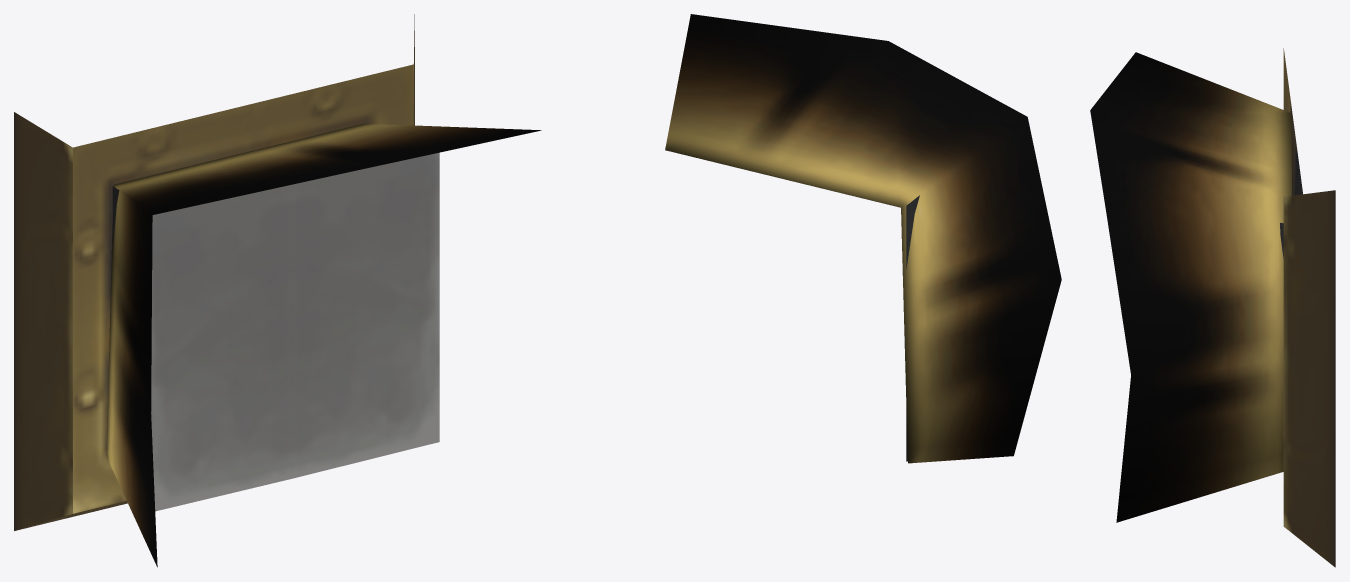
The model's file is model_pressure.glb.
3 renders of one model, left to right at view 1: azimuth 30°, elevation 25°; view 2: azimuth 150°, elevation 25°; view 3: azimuth 270°, elevation 25°, orthographic. The views are drawn at different scales.
Parts seen in each view (by area): view 1: button.model_pressure-MeshNodes["mesh_button"], button.model_pressure-MeshNodes["mesh_base"], button.model_pressure-MeshNodes["mesh_aura"]; view 2: button.model_pressure-MeshNodes["mesh_aura"]; view 3: button.model_pressure-MeshNodes["mesh_aura"], button.model_pressure-MeshNodes["mesh_base"].
Boxes of the visible parts, x1,y1,x2,y2 form: button.model_pressure-MeshNodes["mesh_button"]: (112,152,439,511); button.model_pressure-MeshNodes["mesh_base"]: (14,14,414,530); button.model_pressure-MeshNodes["mesh_aura"]: (106,123,541,567); button.model_pressure-MeshNodes["mesh_aura"]: (665,14,1061,463); button.model_pressure-MeshNodes["mesh_aura"]: (1090,52,1291,522); button.model_pressure-MeshNodes["mesh_base"]: (1283,48,1335,567).
Bounding box in the file's own units: 1 × 1 × 0.5891.
Materials: 1 (1 with a texture image).
